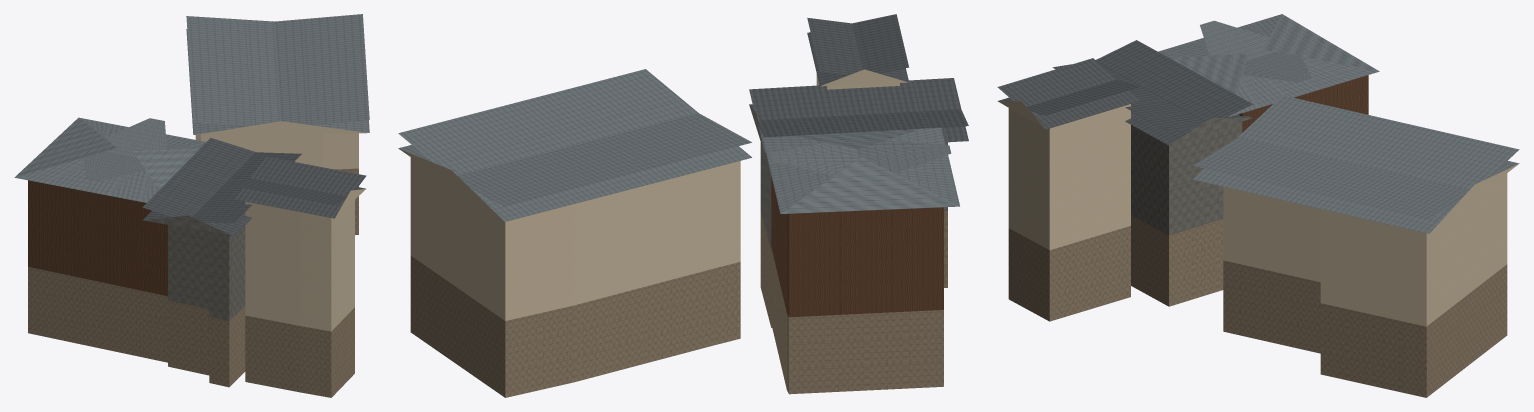
Rendered from bld_c-4_17_539.gltf.
3 views of the same model, side by side, from view 1: azimuth 30°, elevation 25°; view 2: azimuth 150°, elevation 25°; view 3: azimuth 270°, elevation 25° (orthographic). The views are drawn at different scales.
Parts seen in each view (by area): view 1: bld_c-4_17_539; view 2: bld_c-4_17_539; view 3: bld_c-4_17_539.
Boxes of the visible parts, x1=… form: bld_c-4_17_539: x1=14, y1=14, x2=369, y2=397; bld_c-4_17_539: x1=398, y1=14, x2=968, y2=397; bld_c-4_17_539: x1=997, y1=14, x2=1519, y2=397.
Size of the model in its own units: 33.51 by 15.1 by 33.85.
8 materials, 8 textured.
